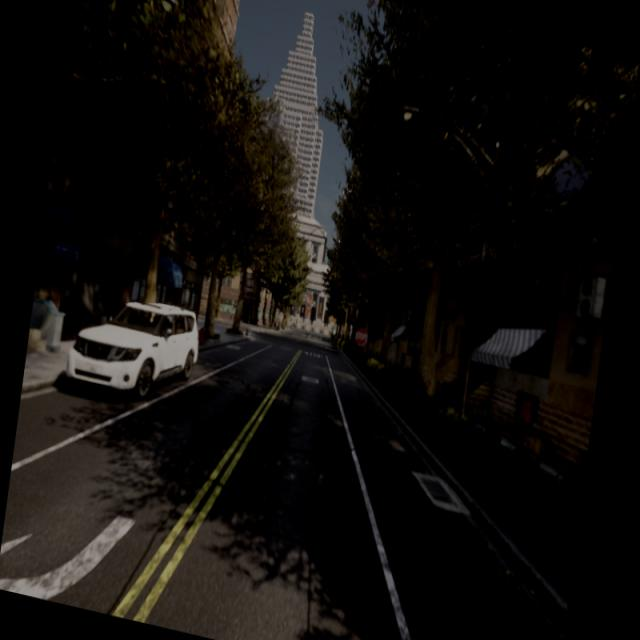stop sign: (352, 324, 369, 348)
